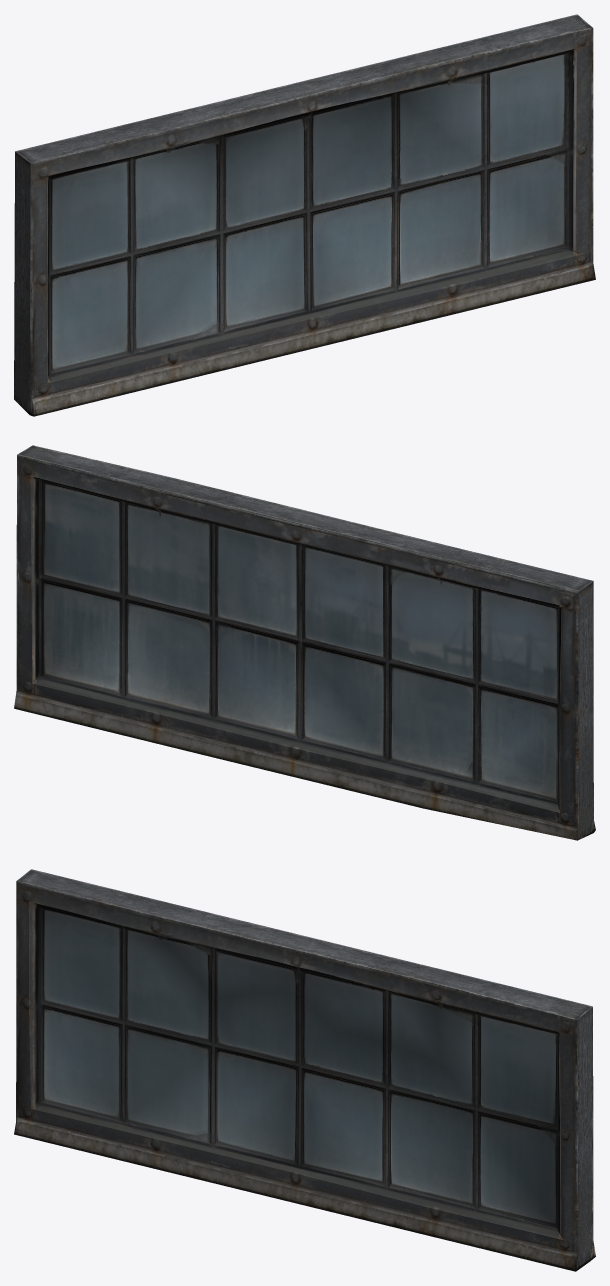
File: window-assembly.glb
The picture shows the model from 3 angles, top to bottom: view 1: azimuth 30°, elevation 25°; view 2: azimuth 150°, elevation 25°; view 3: azimuth 330°, elevation 25°; orthographic projection.
Parts seen in each view (by area): view 1: window-assembly; view 2: window-assembly; view 3: window-assembly.
Boxes of the visible parts, bbox=[...] form: window-assembly: bbox=[14, 14, 595, 416]; window-assembly: bbox=[14, 445, 595, 840]; window-assembly: bbox=[14, 869, 595, 1271].
Size of the model in its own units: 2.8 by 1.2 by 0.18.
1 material, 1 textured.
